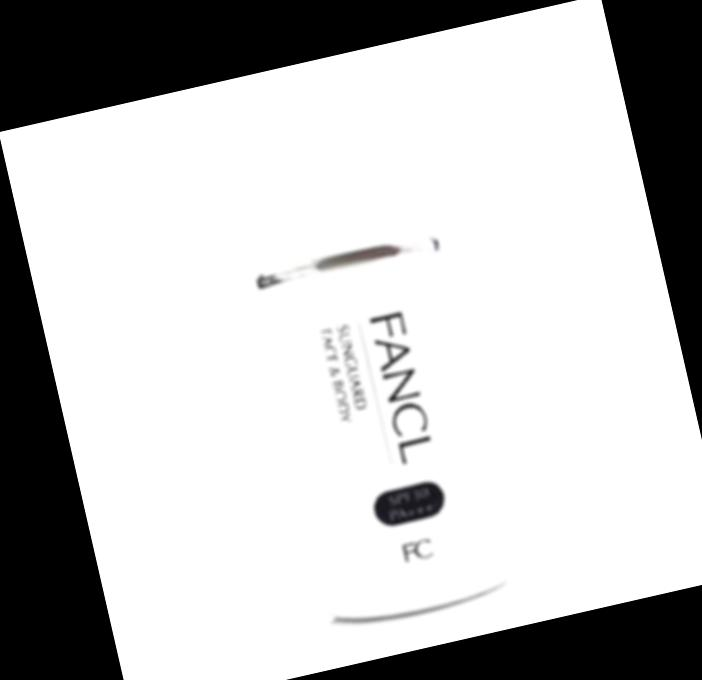cosmetic: (218, 118, 529, 633)
